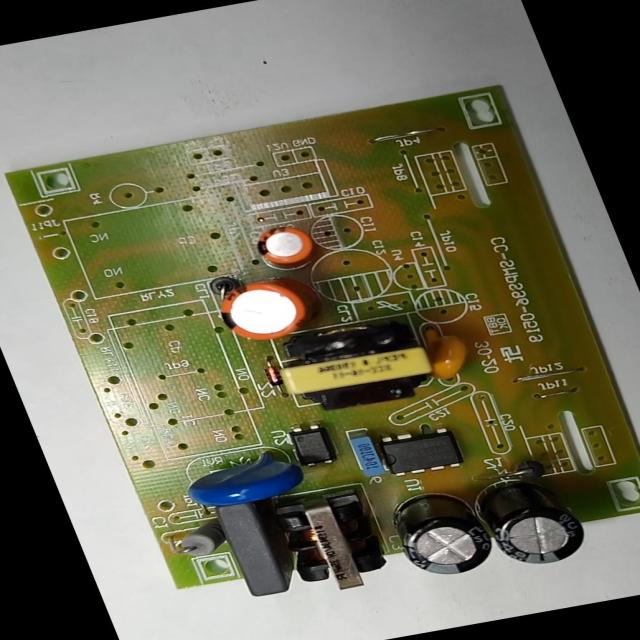Cap1: (209, 275, 316, 346)
Cap2: (247, 223, 319, 270)
Cap3: (470, 469, 597, 573)
Cap4: (382, 486, 504, 581)
MOSFET: (373, 424, 467, 480)
Mov: (176, 444, 310, 512)
Resistor: (169, 518, 232, 561)
Transformer: (269, 317, 445, 417), (270, 486, 394, 597)
